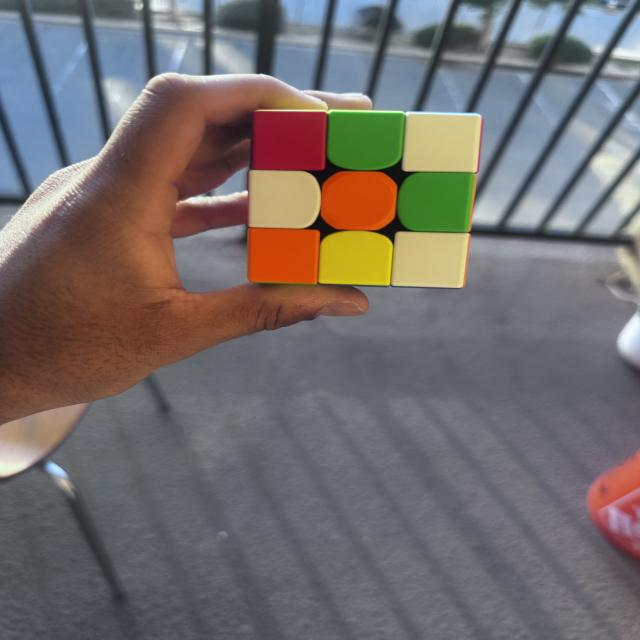sticker: (401, 110, 484, 176), (249, 109, 330, 174), (325, 109, 406, 174), (320, 170, 399, 232), (396, 172, 475, 234), (389, 230, 470, 290), (246, 168, 324, 230), (246, 227, 322, 286), (318, 230, 394, 288)
